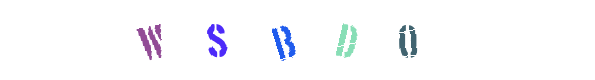0: (367, 0, 447, 80)
B: (258, 0, 338, 80)
D: (277, 0, 357, 80)
S: (211, 0, 291, 80)
W: (116, 0, 196, 80)
